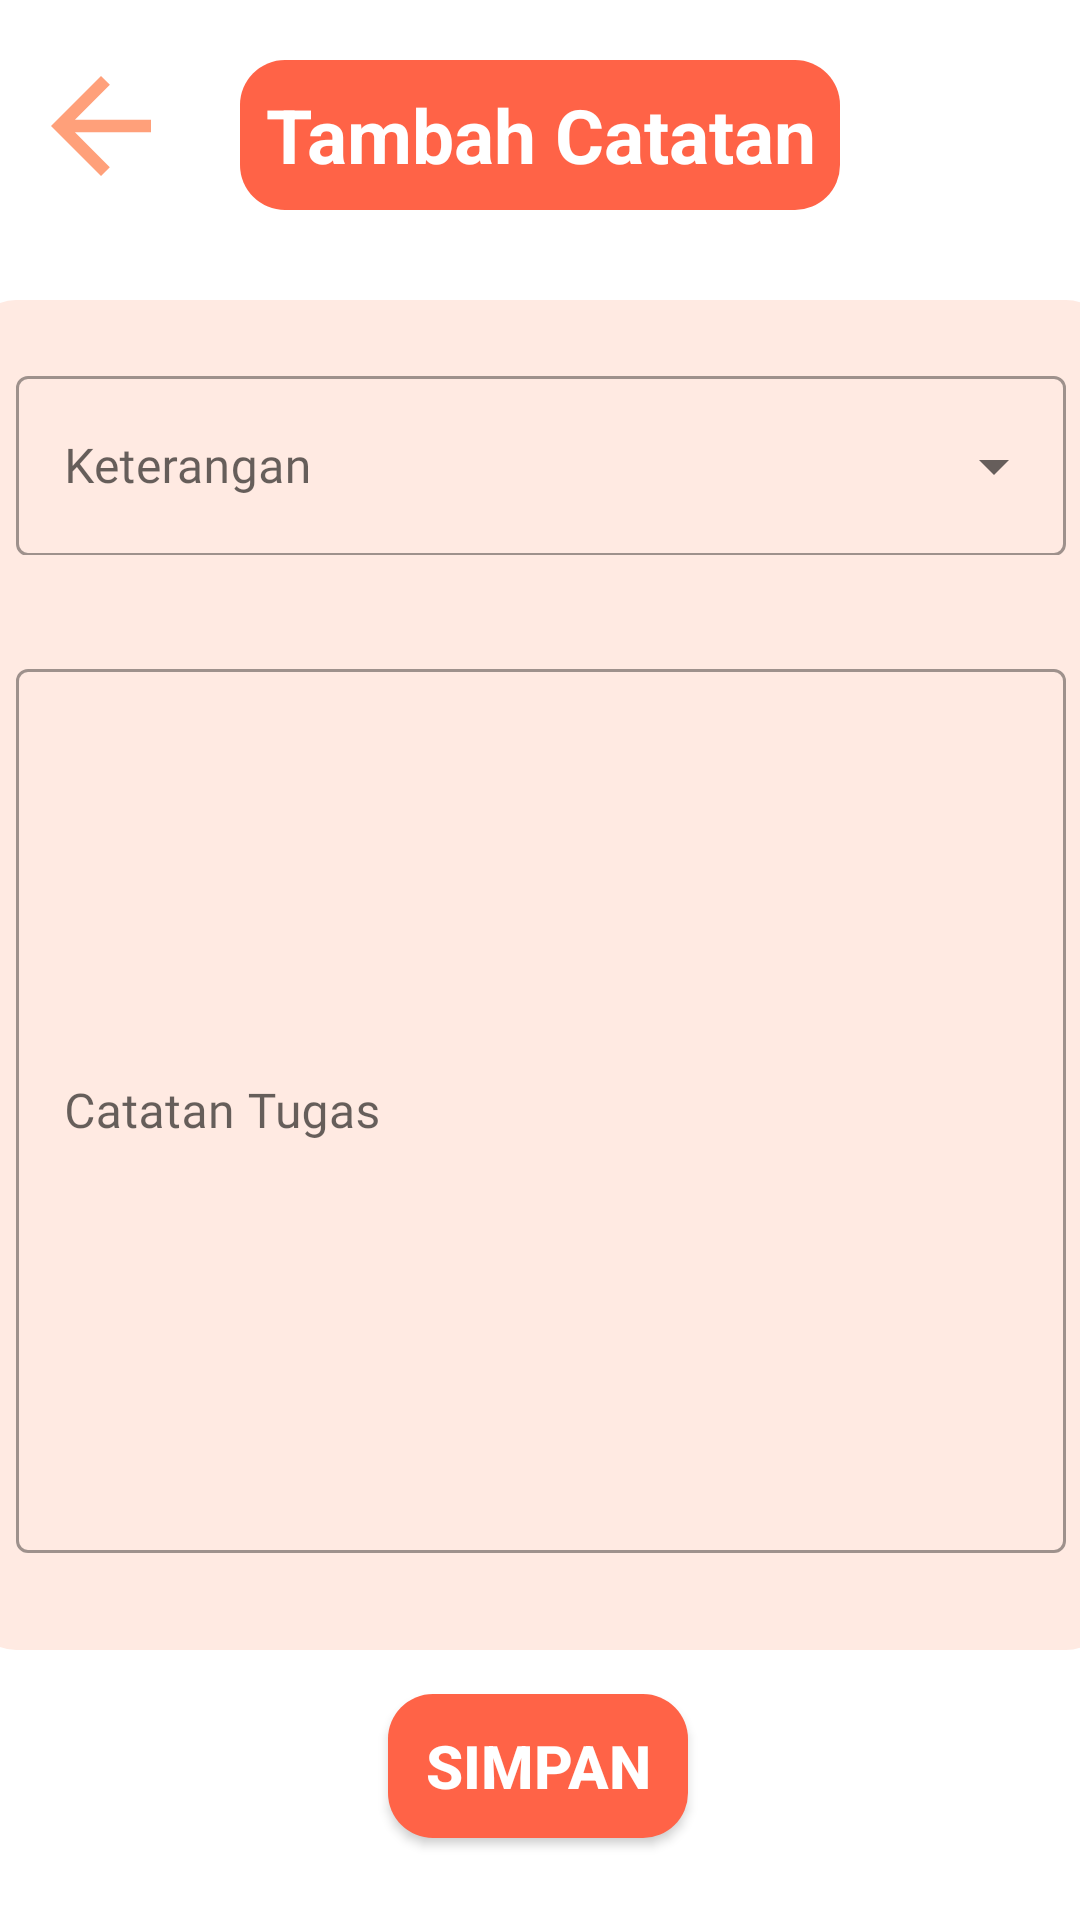

Point at icon controls on the screen. Image size 1080*1920, points as point (x, y).
arrow back: point (101, 126)
